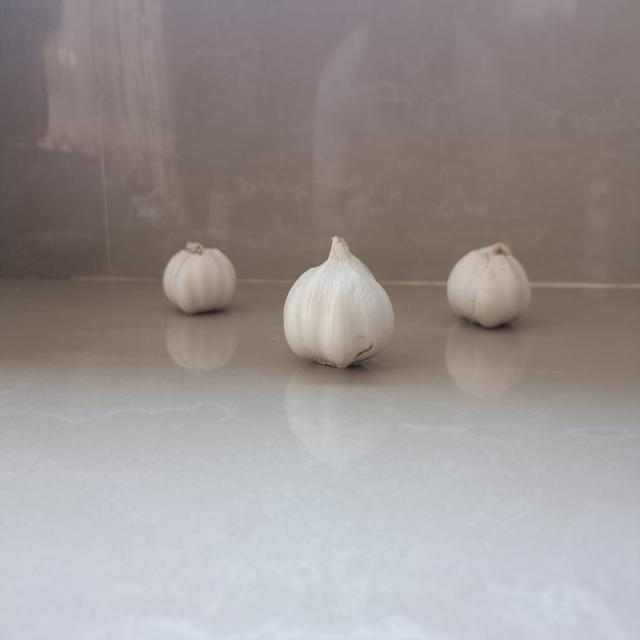garlic: (281, 232, 397, 371), (444, 241, 531, 337), (161, 240, 237, 313)
